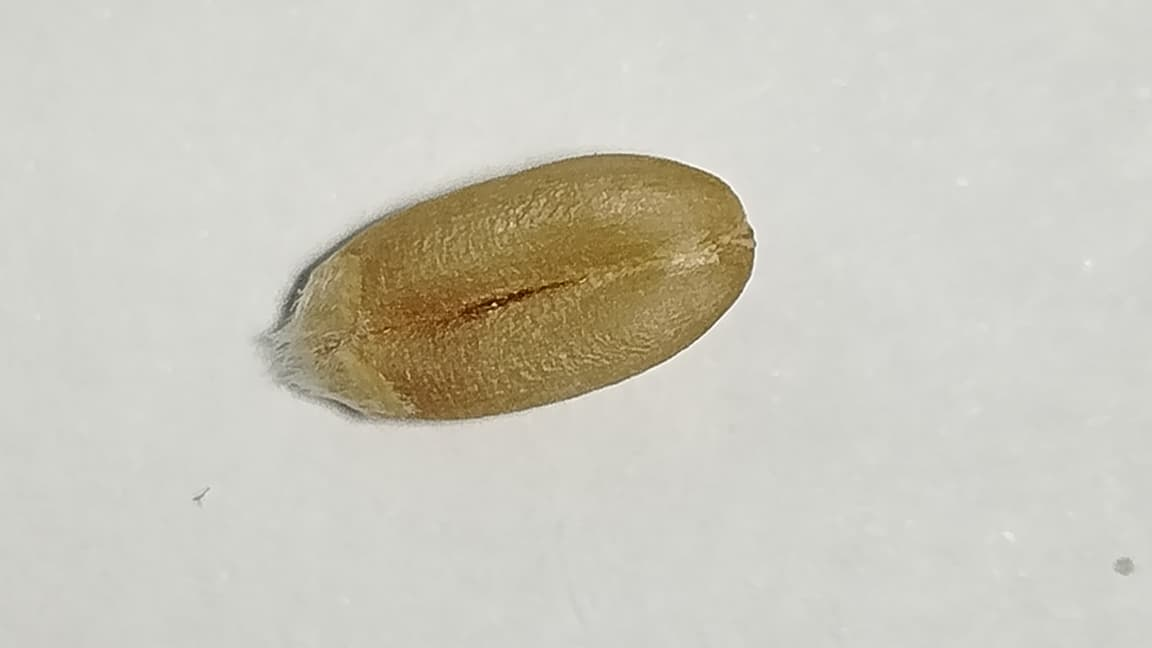healthy: (251, 151, 754, 424)
